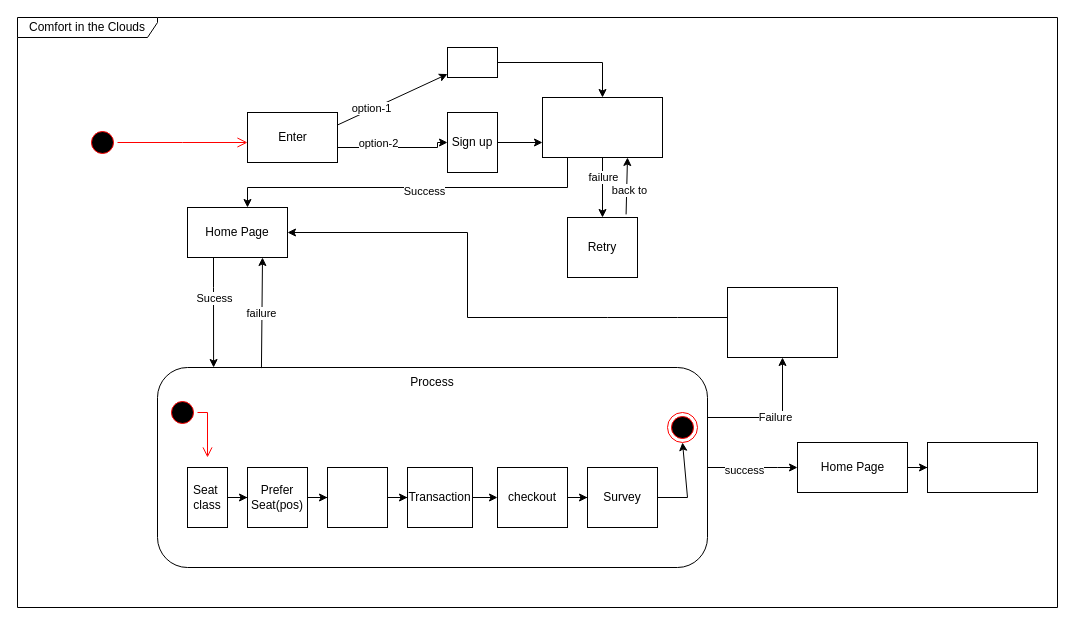
The diagram is 1075 pixels wide and 625 high, and some of its shapes have lost their labels. The centre of each missing label's shape, as x and y in pixels:
login: the point at 472,62
logout: the point at 982,467
luggage amount: the point at 357,497
Provide Info: the point at 602,127
Reason Of Error: the point at 782,322
